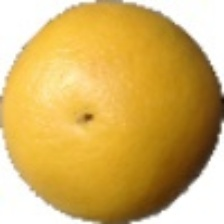grapes: (58, 15, 202, 188)
